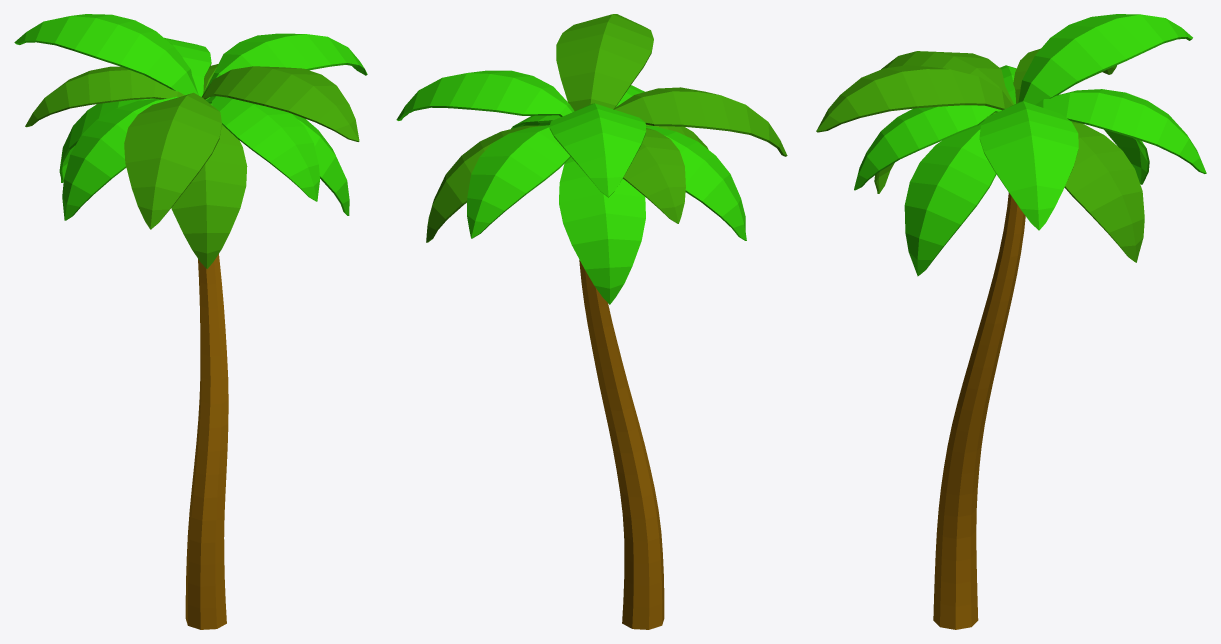
Rendered from Palm_Tree.obj.
3 views of the same model, side by side, from view 1: azimuth 30°, elevation 25°; view 2: azimuth 150°, elevation 25°; view 3: azimuth 270°, elevation 25° (orthographic). The views are drawn at different scales.
Visible parts, largest first — view 1: Palm-tree_Cylinder; view 2: Palm-tree_Cylinder; view 3: Palm-tree_Cylinder.
Part boxes in pixels (x1,y1,x2,y2): Palm-tree_Cylinder: (14,14,367,629); Palm-tree_Cylinder: (396,14,787,629); Palm-tree_Cylinder: (816,14,1206,629).
Size of the model in its own units: 3.28 by 5.4 by 3.27.
